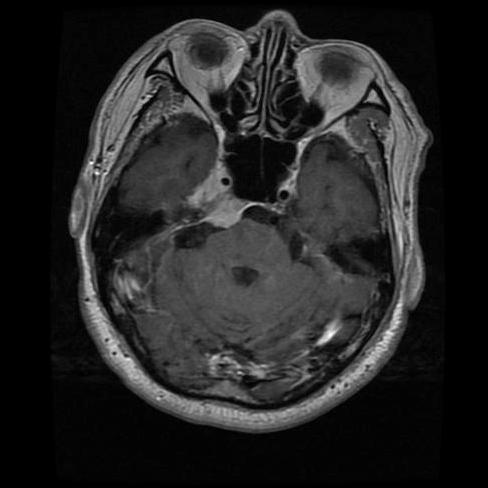Tumour-Pituitary: (182, 161, 255, 238)
